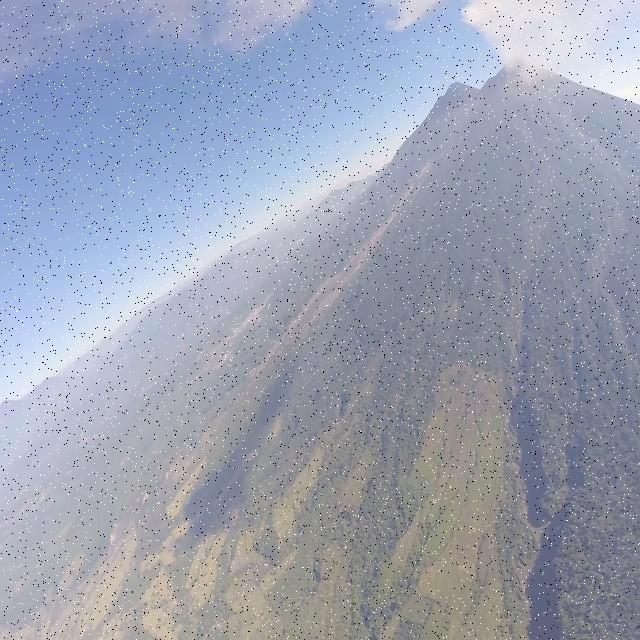Summit: (496, 54, 540, 72)
